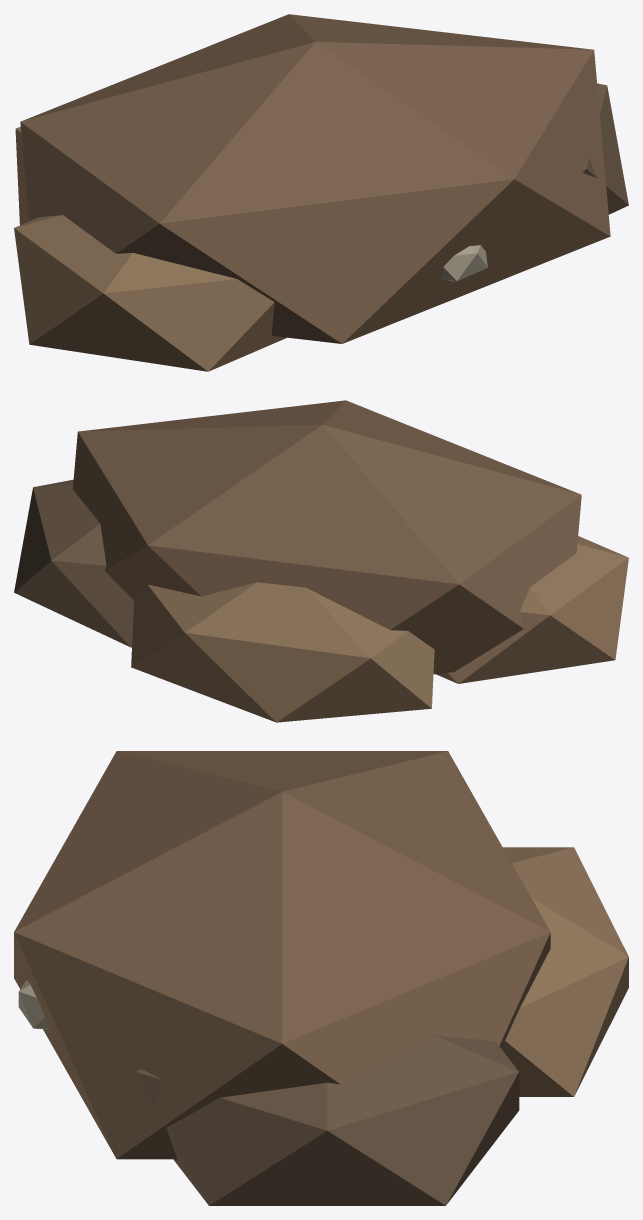
The model's file is Resource_Soil.fbx.
3 renders of one model, top to bottom at view 1: azimuth 30°, elevation 25°; view 2: azimuth 150°, elevation 25°; view 3: azimuth 270°, elevation 25°, orthographic. The views are drawn at different scales.
Parts seen in each view (by area): view 1: Resource_Soil; view 2: Resource_Soil; view 3: Resource_Soil.
Boxes of the visible parts, bbox=[...] form: Resource_Soil: bbox=[14, 14, 628, 371]; Resource_Soil: bbox=[14, 400, 628, 722]; Resource_Soil: bbox=[14, 751, 628, 1205].
Bounding box in the file's own units: 75.67 × 32 × 54.58.
